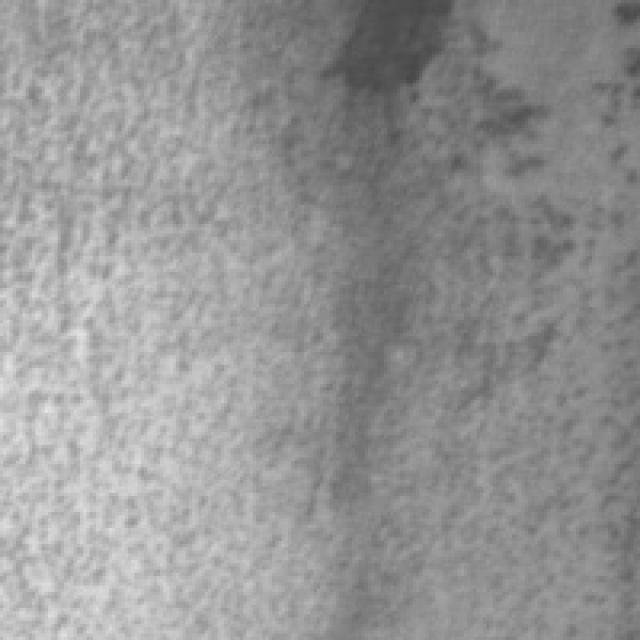patches: (304, 0, 454, 96)
pitted_surface: (13, 0, 400, 618), (364, 7, 634, 630)
